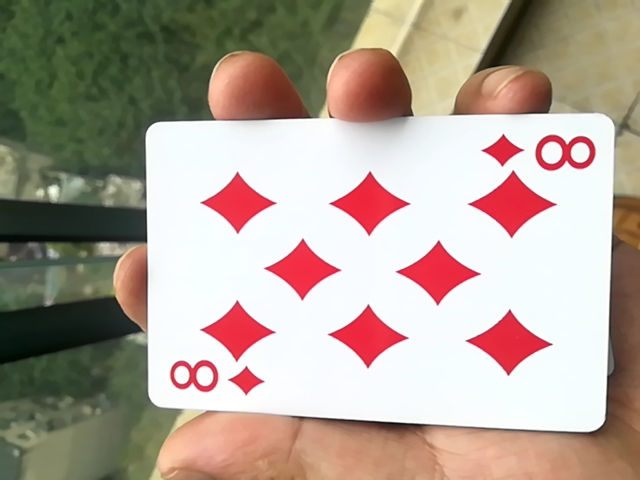fk 8: (127, 120, 604, 446)
